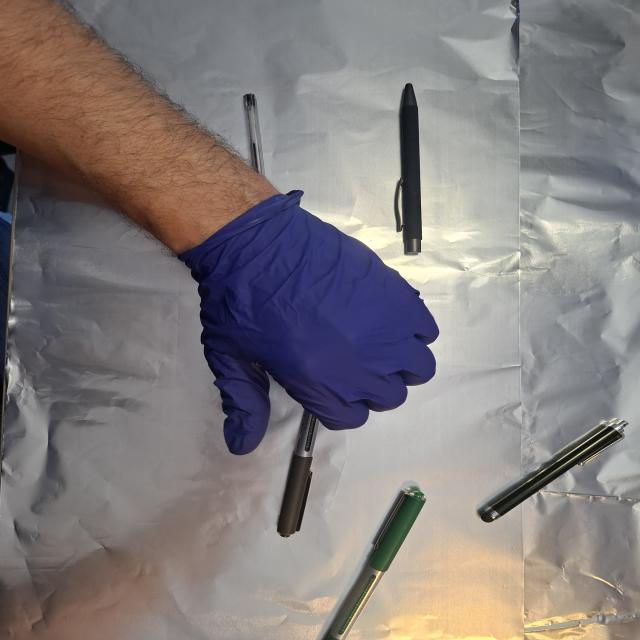glove_on: (183, 192, 444, 458)
